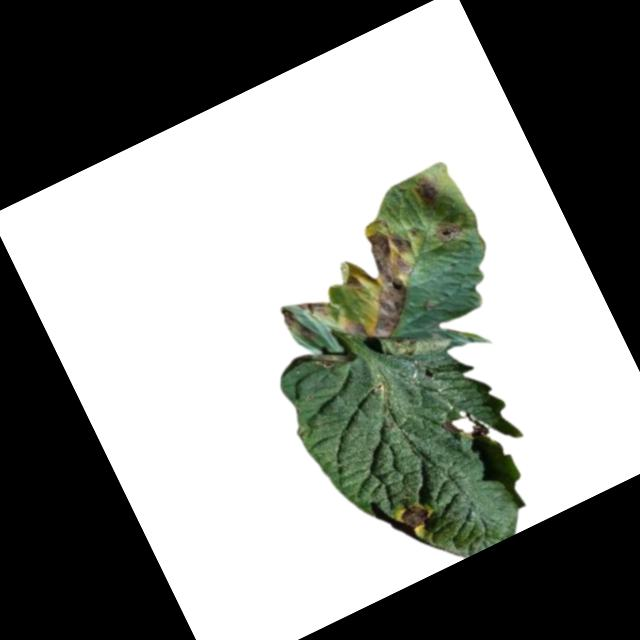Early_blight: (263, 210, 446, 376), (440, 403, 490, 450), (395, 494, 436, 533), (408, 172, 446, 213), (430, 212, 466, 247)
